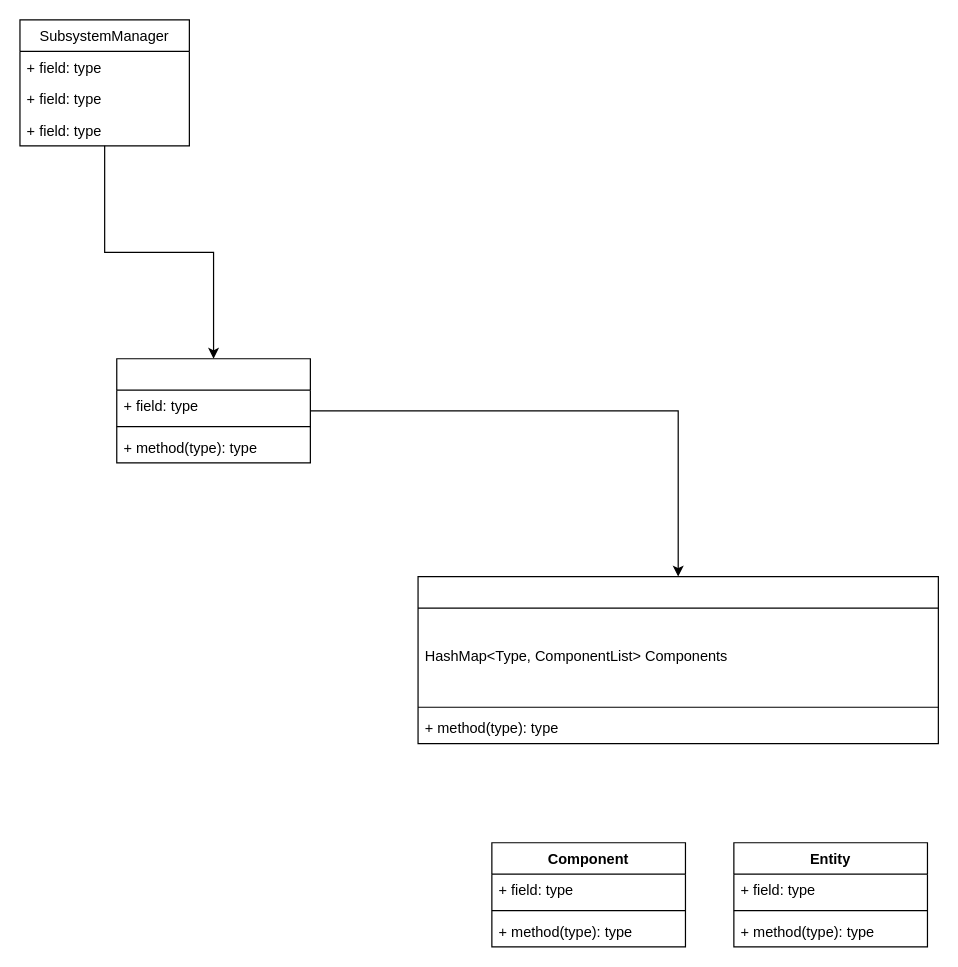
Image size: 958x967. Some labels were removed from this diagram. The box of each missing label's shape, as (x1, y1, x2, y2) in pixels:
World: (417, 575, 938, 744)
WorldManager: (116, 358, 310, 463)
